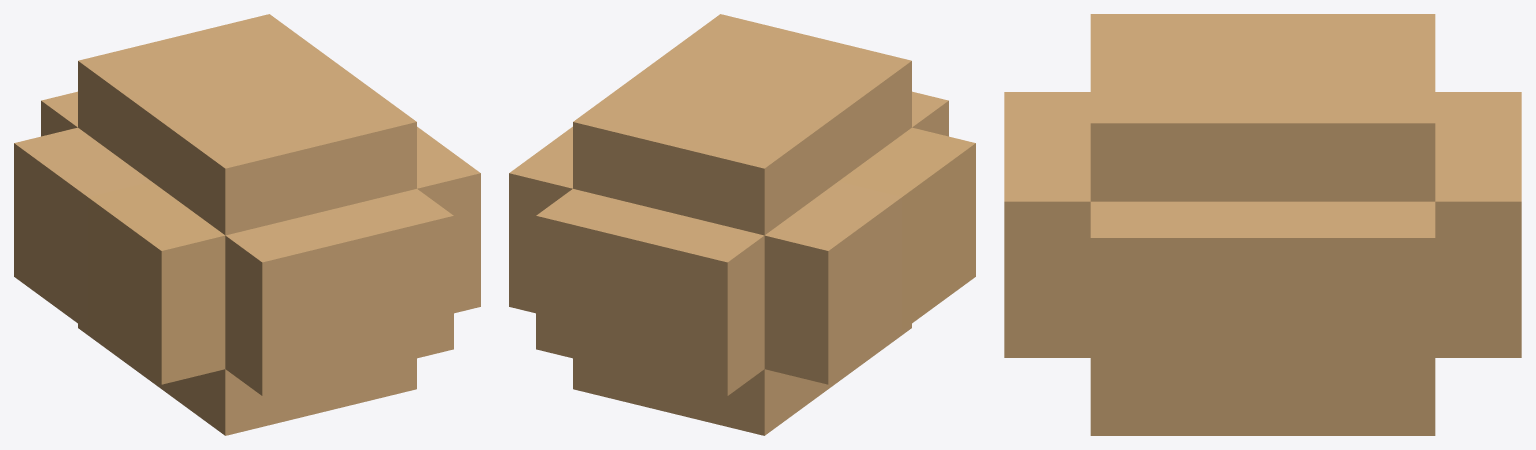
The model's file is humantemplatehands(right).obj.
The picture shows the model from 3 angles, left to right: view 1: azimuth 30°, elevation 25°; view 2: azimuth 150°, elevation 25°; view 3: azimuth 270°, elevation 25°; orthographic projection. The views are drawn at different scales.
Bounding box in the file's own units: 5 × 4 × 6.
1 material, 1 textured.
